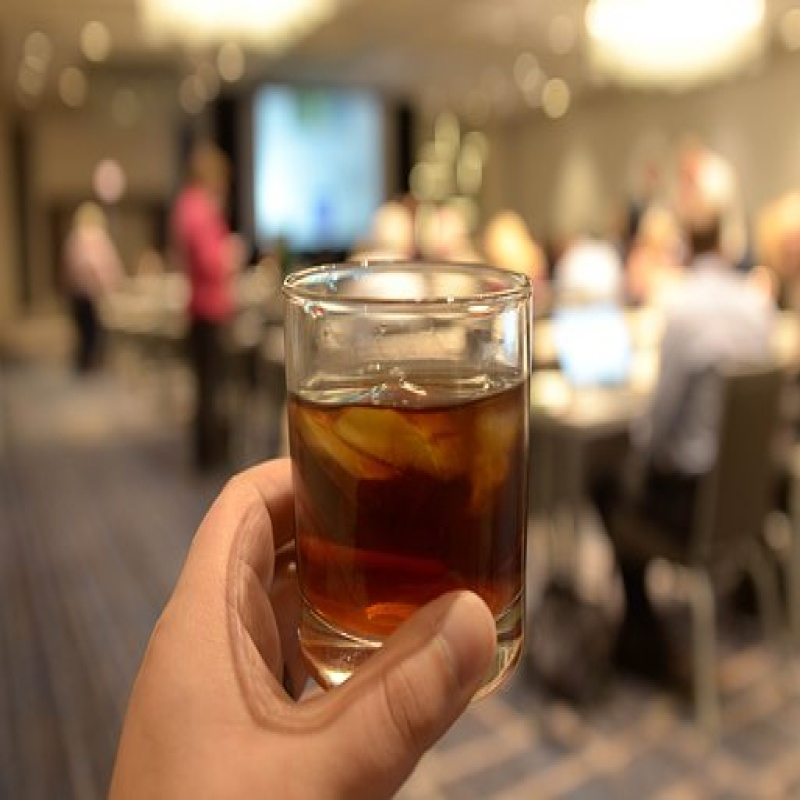whiskey: (295, 261, 537, 678)
